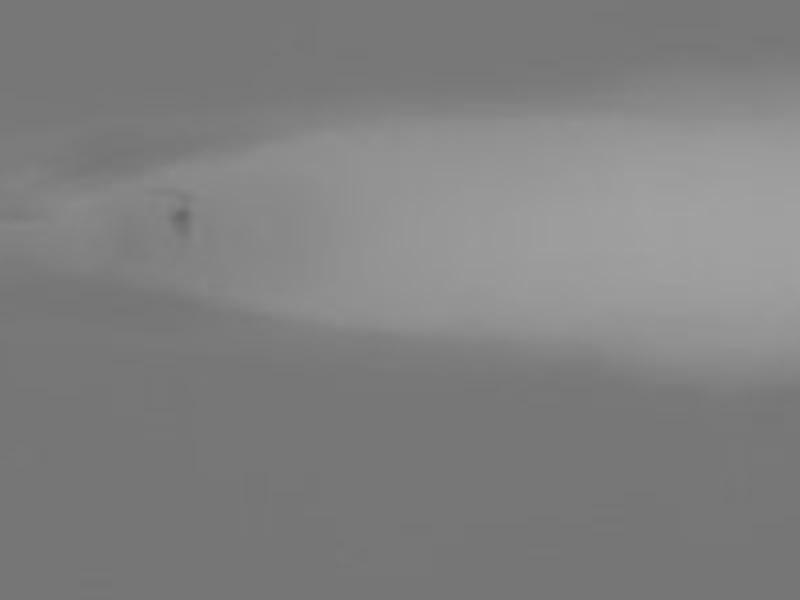defect: (170, 204, 191, 231)
